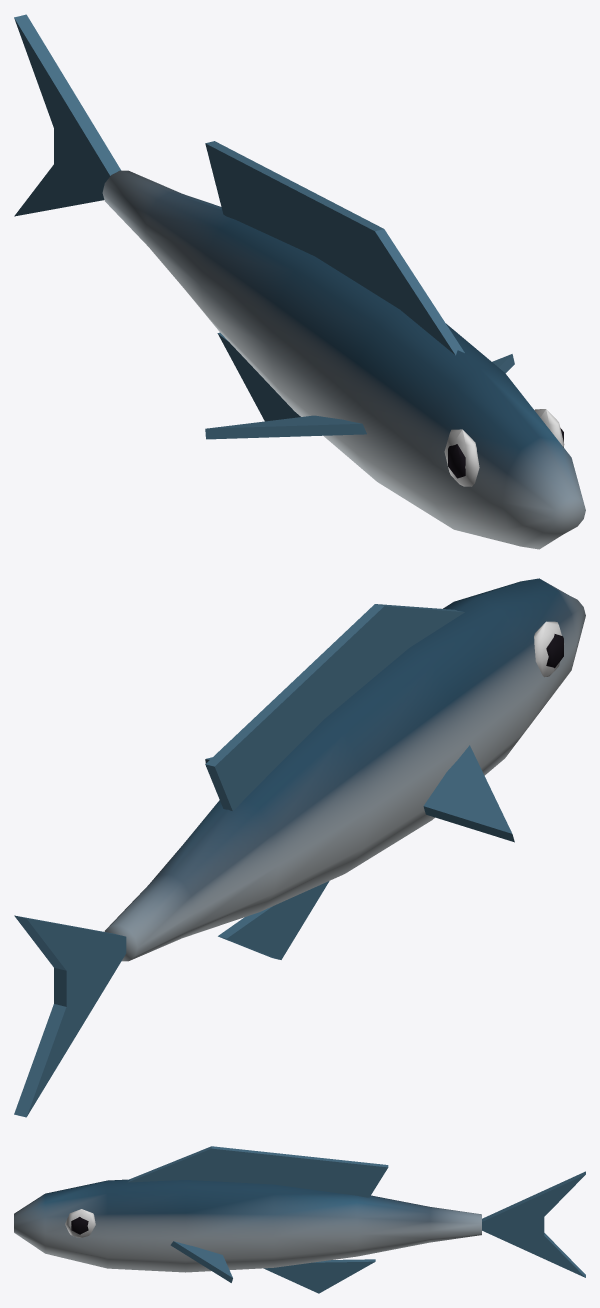
Rendered from fish_mackerel.glb.
3 renders of one model, top to bottom at view 1: azimuth 30°, elevation 25°; view 2: azimuth 150°, elevation 25°; view 3: azimuth 270°, elevation 25°, orthographic. The views are drawn at different scales.
Parts seen in each view (by area): view 1: fish_mackerel; view 2: fish_mackerel; view 3: fish_mackerel.
Boxes of the visible parts, <box> form: fish_mackerel: <box>14,14,585,549</box>; fish_mackerel: <box>14,578,585,1117</box>; fish_mackerel: <box>14,1146,585,1293</box>.
Bounding box in the file's own units: 0.1965 × 0.1694 × 0.605.
